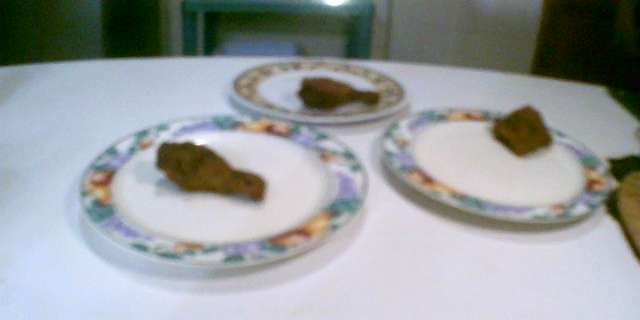chicken: (153, 134, 279, 211), (482, 99, 556, 158), (297, 74, 383, 114)
